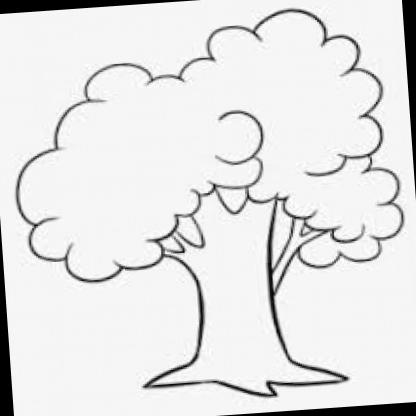branch_cut: (148, 174, 330, 282)
crown_cloud: (3, 0, 408, 290)
root_only: (138, 341, 357, 414)
trunk_straight: (190, 282, 292, 357)
